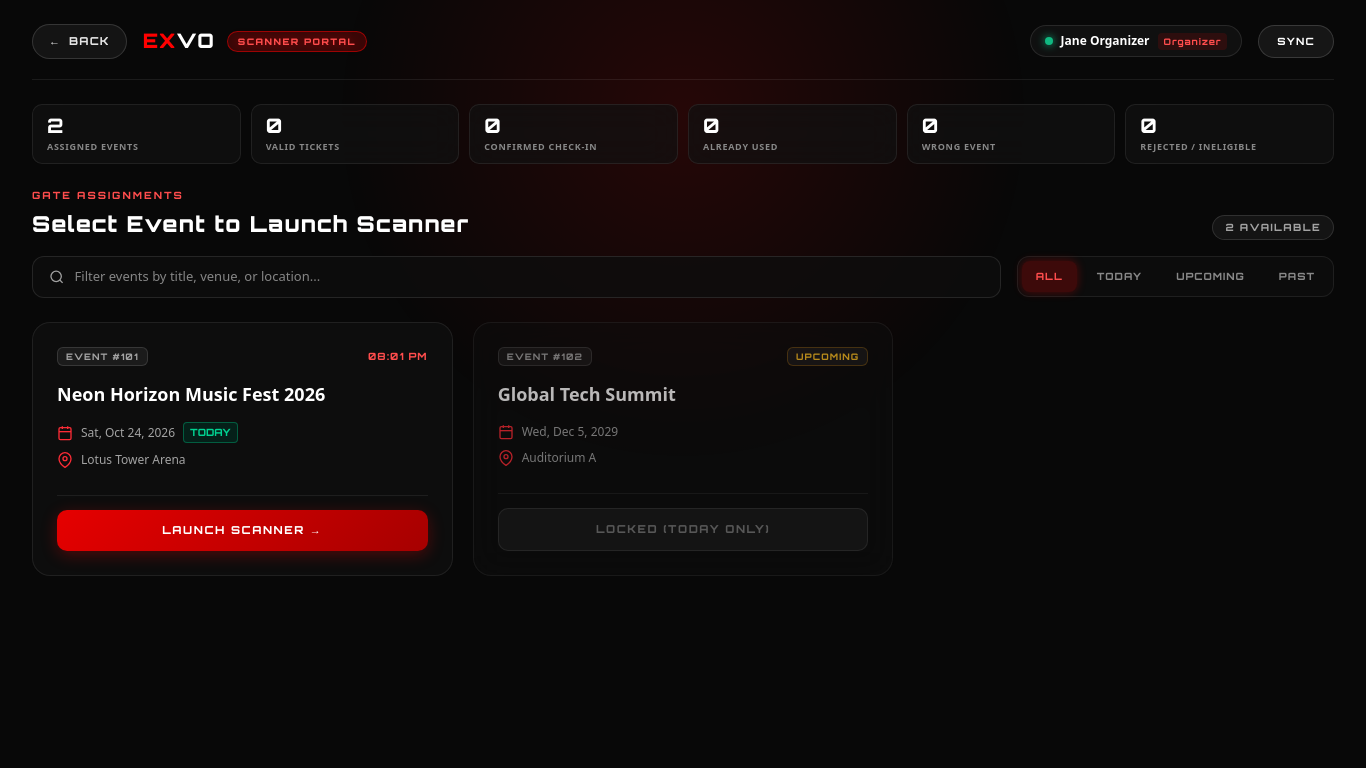
Scenario: CoordinatorScannerPortal (SCRUM-30) › selects an event, verifies scanner access, and launches the QR Scanner UI
Expected: the heading "Neon Horizon Music Fest 2026" is shown, x1=57 y1=382 x2=325 y2=406
Note: Click Launch Scanner on the first event card
Click the button "LAUNCH SCANNER →" at point(242, 531), box x1=57 y1=510 x2=428 y2=551
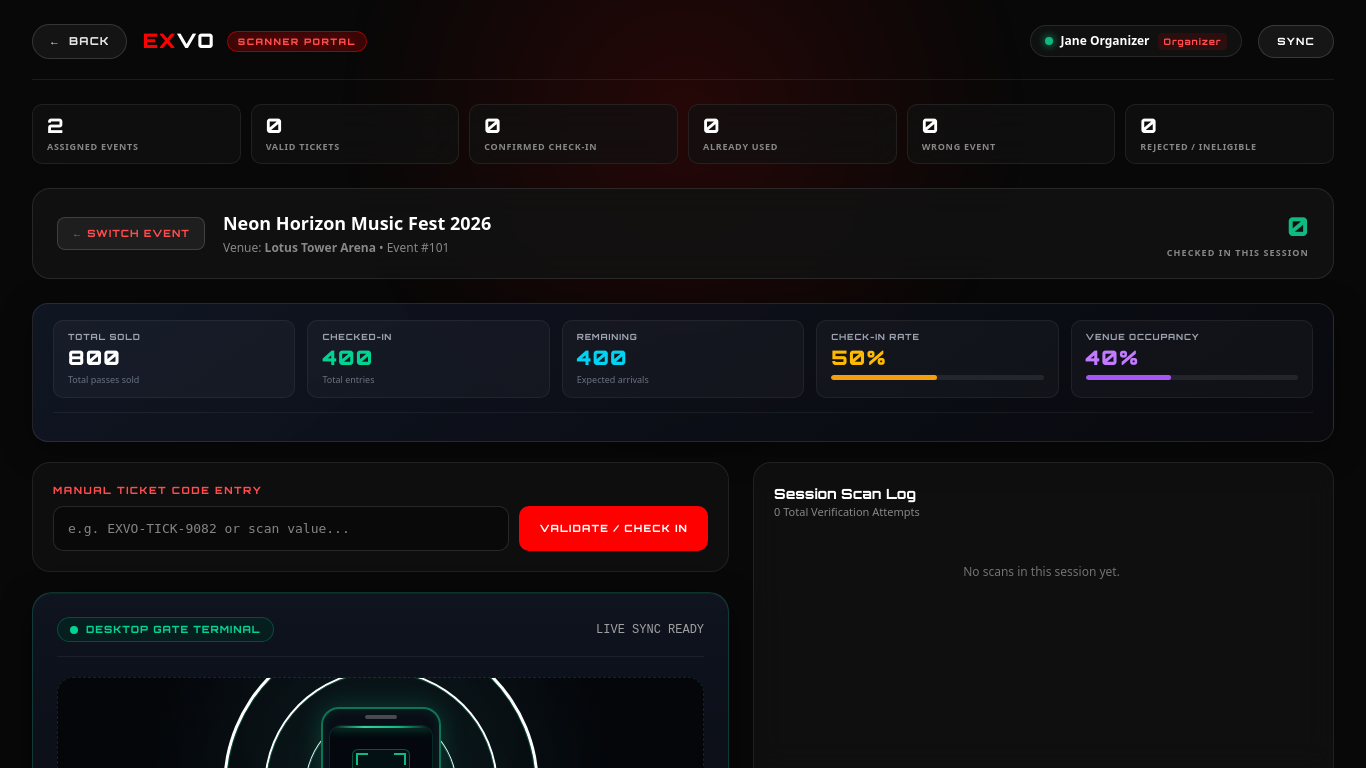
Now the button "← SWITCH EVENT" is shown, box x1=57 y1=217 x2=205 y2=250
Now the text "DESKTOP GATE TERMINAL" is shown, box x1=57 y1=617 x2=274 y2=642
Now the field labelled "MANUAL TICKET CODE ENTRY" is shown, box x1=53 y1=506 x2=510 y2=551
